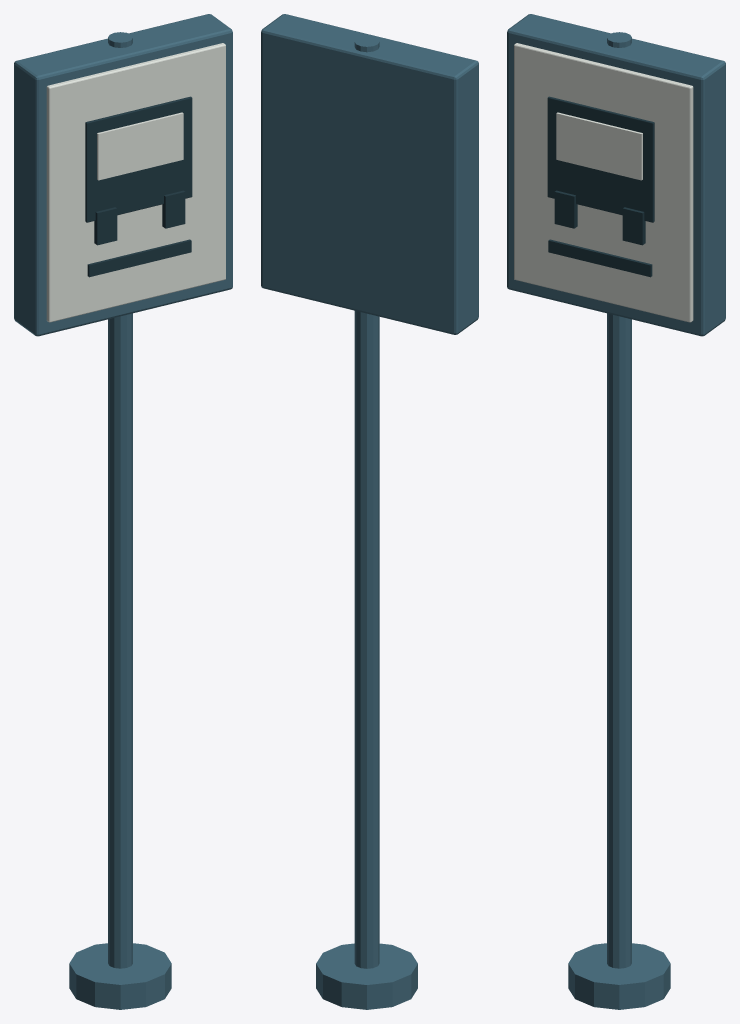
The model's file is bus-stop-pole.lod0.glb.
3 renders of one model, left to right at view 1: azimuth 30°, elevation 25°; view 2: azimuth 150°, elevation 25°; view 3: azimuth 330°, elevation 25°, orthographic.
Visible parts, largest first — view 1: module-batch-painted-metal, module-batch-sign-face, module-batch-sign-symbol; view 2: module-batch-painted-metal; view 3: module-batch-painted-metal, module-batch-sign-face, module-batch-sign-symbol.
Boxes of the visible parts, x1=… form: module-batch-painted-metal: x1=14, y1=14, x2=232, y2=1009; module-batch-sign-face: x1=46, y1=43, x2=225, y2=322; module-batch-sign-symbol: x1=85, y1=96, x2=192, y2=277; module-batch-painted-metal: x1=261, y1=14, x2=478, y2=1009; module-batch-painted-metal: x1=507, y1=14, x2=725, y2=1009; module-batch-sign-face: x1=514, y1=43, x2=693, y2=322; module-batch-sign-symbol: x1=547, y1=96, x2=654, y2=277.
Bounding box in the file's own units: 0.58 × 2.66 × 0.26.
